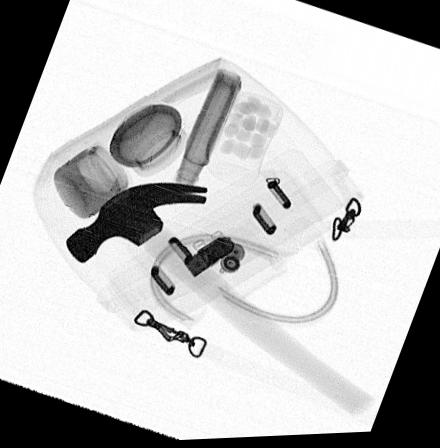Hammer: (64, 183, 377, 425)
